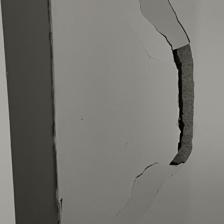Medium: (148, 23, 210, 166)
